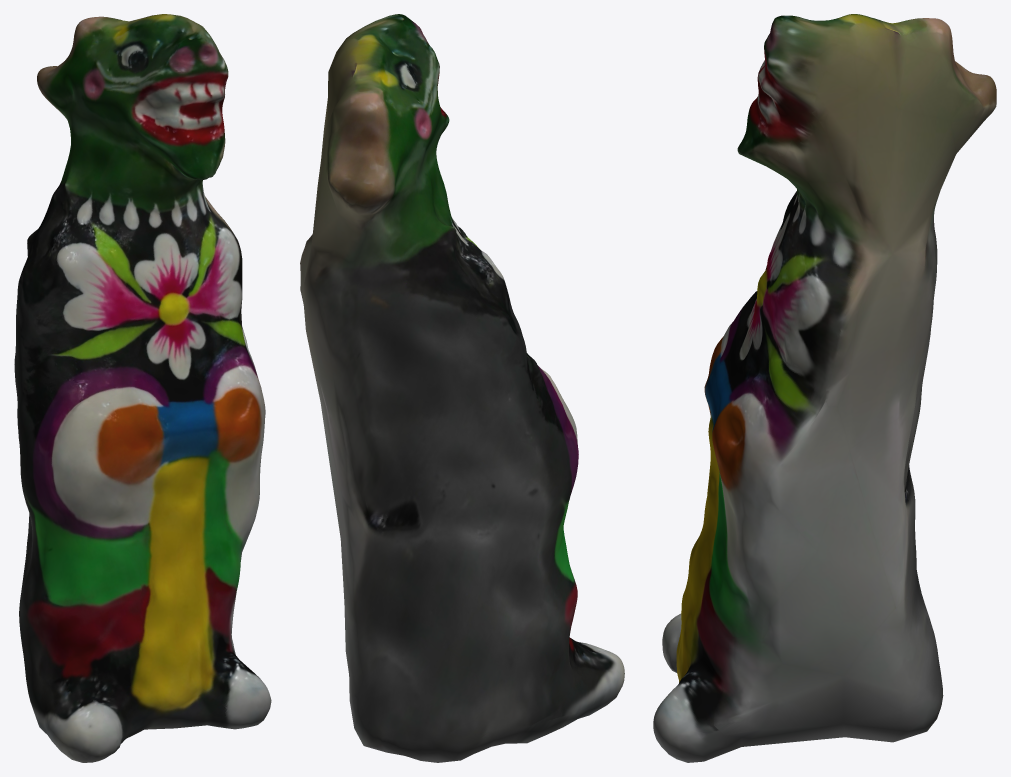
3 views of the same model, side by side, from view 1: azimuth 30°, elevation 25°; view 2: azimuth 150°, elevation 25°; view 3: azimuth 270°, elevation 25° (orthographic). The views are drawn at different scales.
Size of the model in its own units: 0.3463 by 0.9092 by 0.3737.
1 material, 1 textured.
